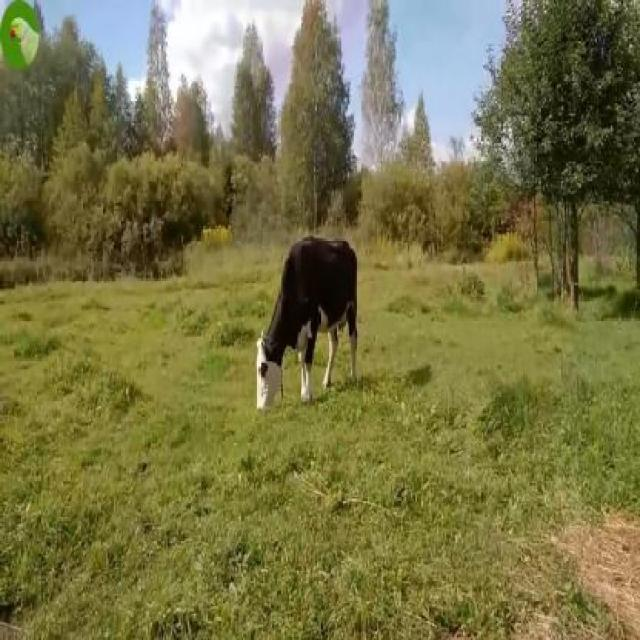Cow: (255, 240, 358, 414)
